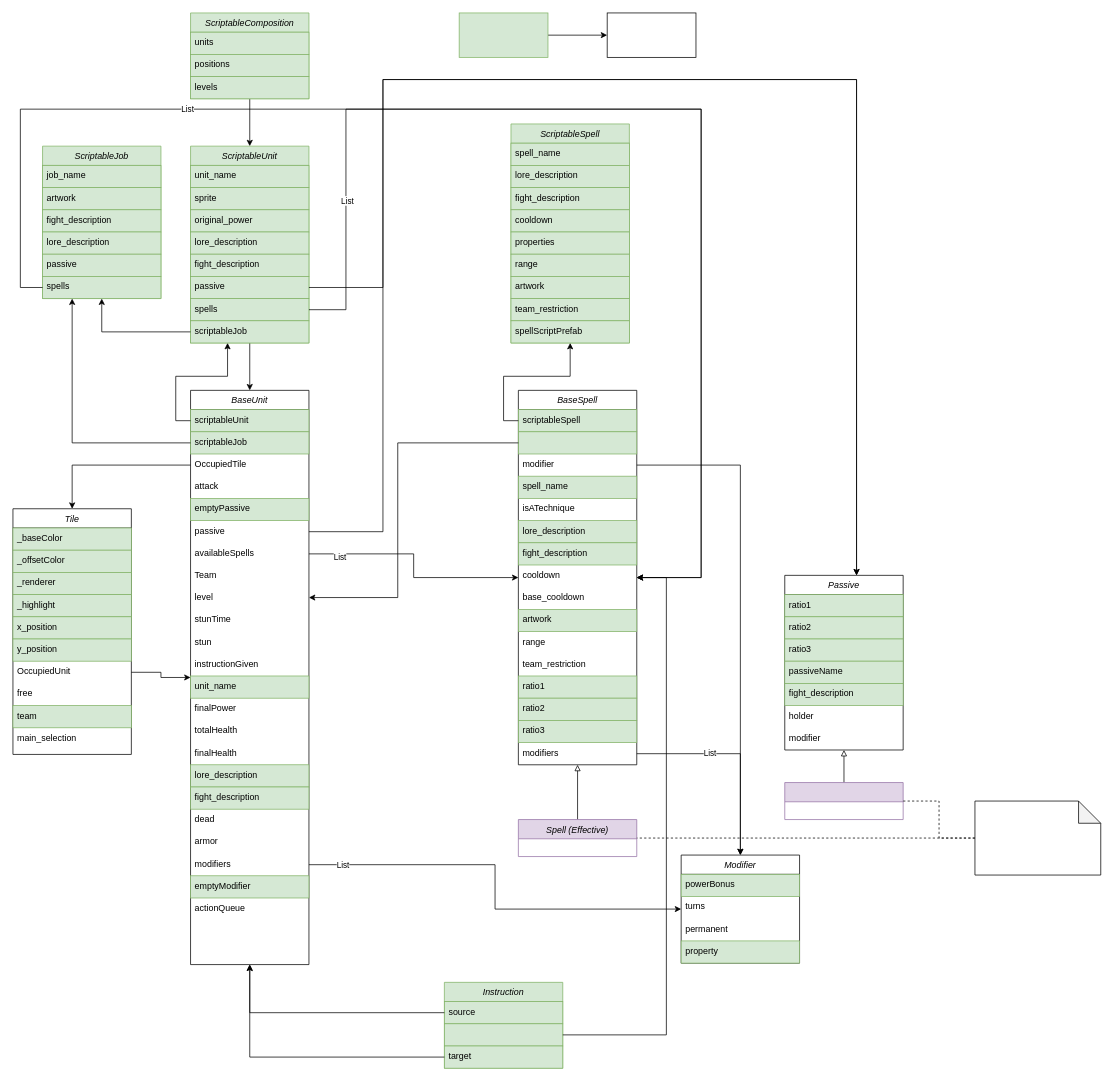
This 1114x1083 diagram has some shape labels left out. The shapes that lost their labels are listed below. From the top down, each one's centre as x and y in pixels, then its label:
point (651, 34): N'est pas modifié durant le runtime
point (577, 442): owner
point (843, 801): Passive (Effective)
point (1037, 837): Sont codés individuellement et héritent du supertype
point (503, 1034): spell
